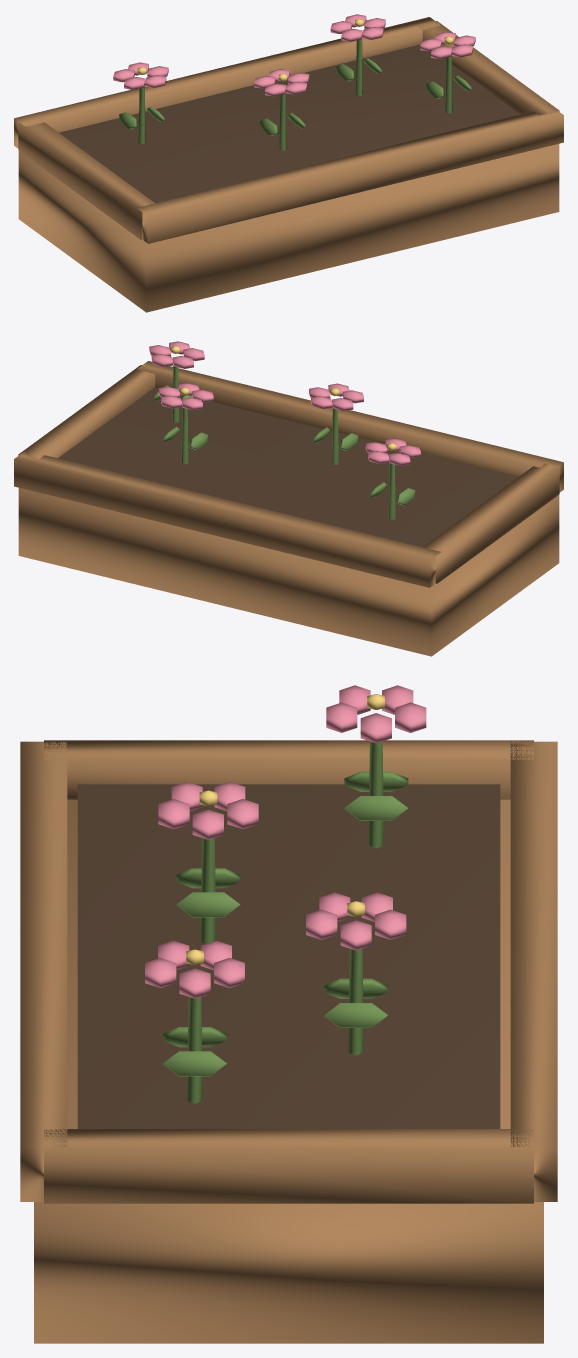
Rendered from quest_flowerbed_bloom_low.glb.
3 views of the same model, one above another, from view 1: azimuth 30°, elevation 25°; view 2: azimuth 150°, elevation 25°; view 3: azimuth 270°, elevation 25° (orthographic). The views are drawn at different scales.
Bounding box in the file's own units: 1.44 × 0.5355 × 0.8.
